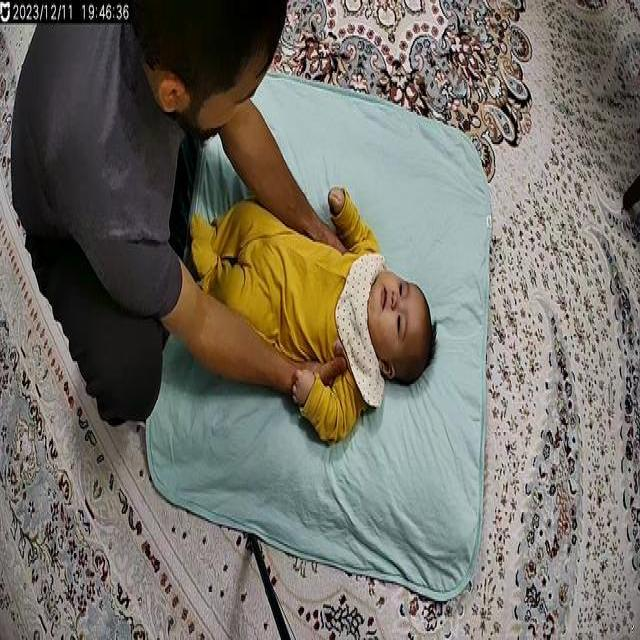baby: (180, 179, 441, 456)
